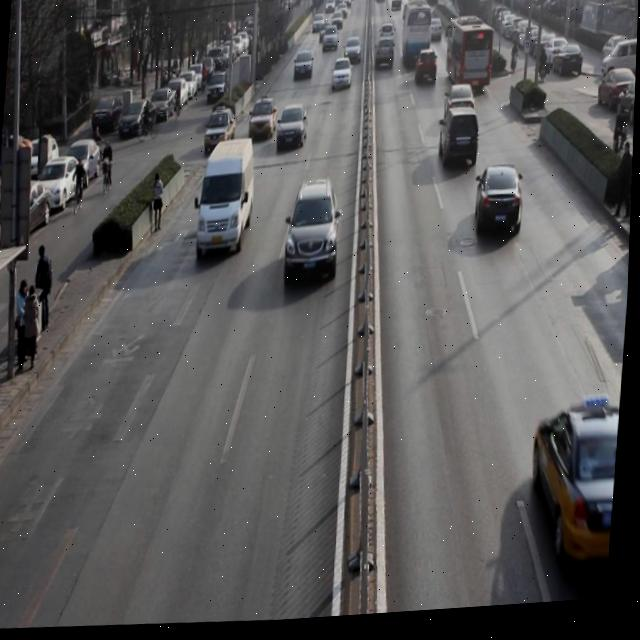car: (529, 398, 620, 581), (285, 181, 347, 293), (473, 166, 528, 249), (438, 113, 482, 179), (274, 108, 309, 158), (442, 88, 478, 136), (203, 110, 238, 158), (247, 99, 277, 144), (414, 53, 439, 91), (372, 42, 396, 79), (331, 61, 354, 99), (294, 55, 314, 87), (377, 29, 397, 57), (342, 41, 362, 68), (428, 22, 444, 52), (322, 30, 338, 59)
truck: (196, 138, 259, 262)
van: (443, 19, 494, 101), (399, 3, 433, 77)
